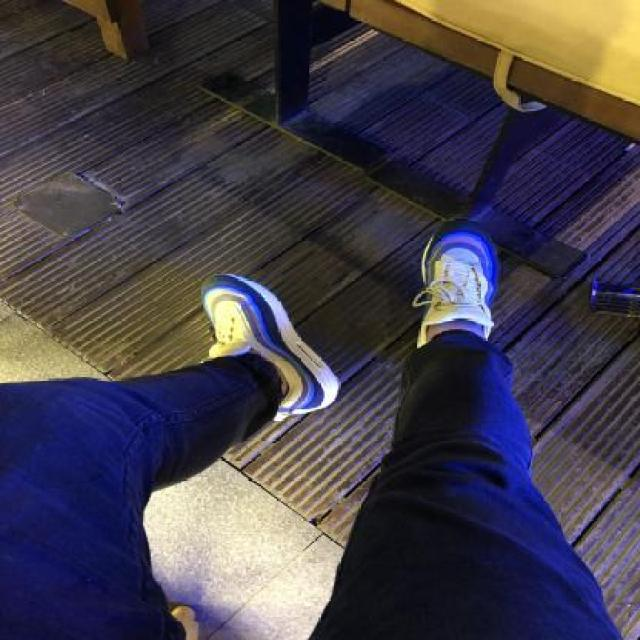shoe: (188, 272, 343, 418), (414, 216, 498, 349)
